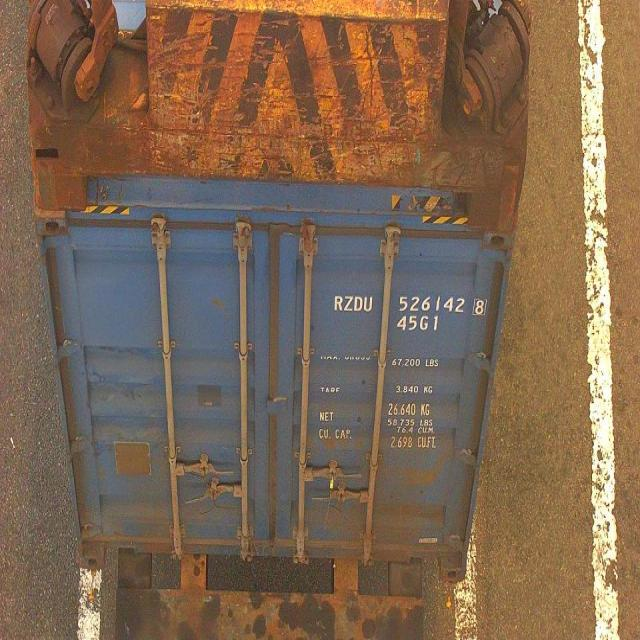ISO: (398, 314, 441, 332)
container_number: (332, 288, 488, 316)
